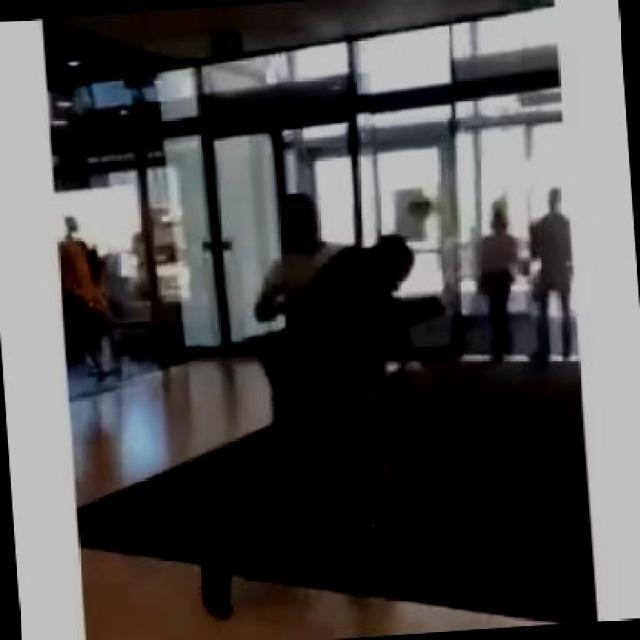fight: (226, 182, 457, 552)
